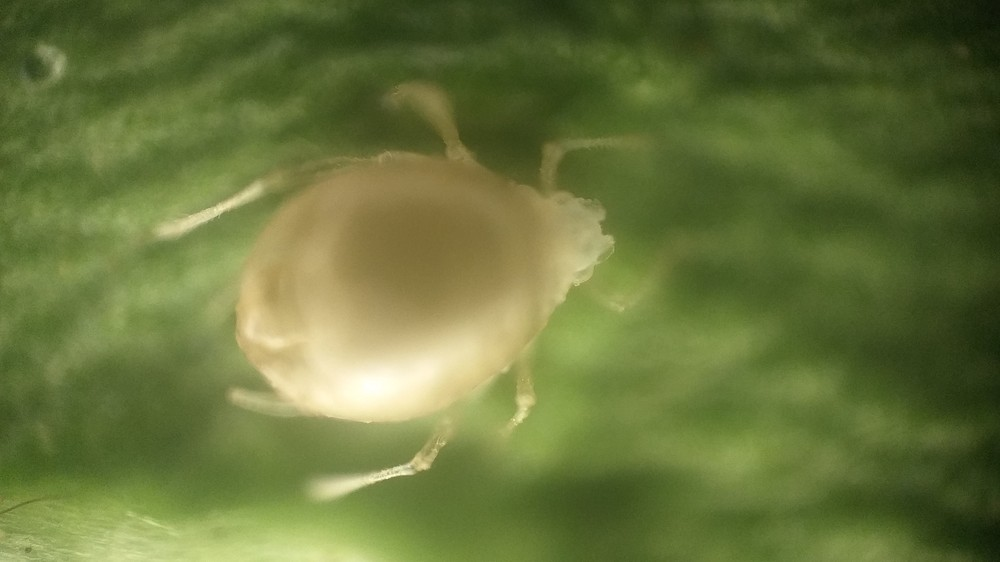Pulgon: (134, 62, 713, 516)
